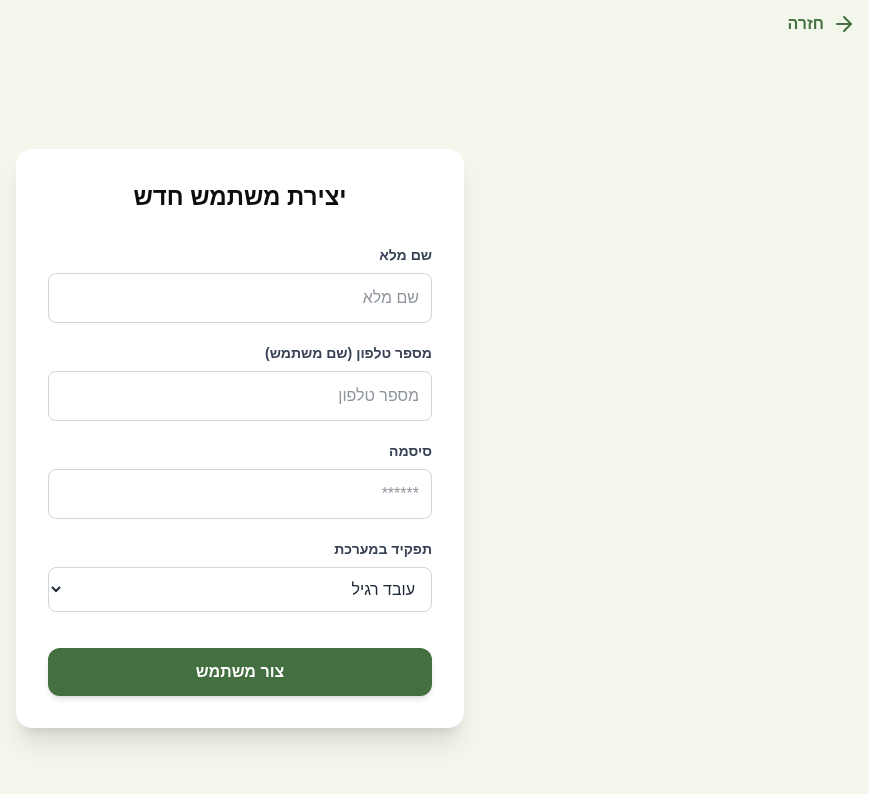
CreateUserPage › displays error message when API fails
Type "Error User" into the field with placeholder "שם מלא". click: (240, 298)
box: [48,272,432,322]
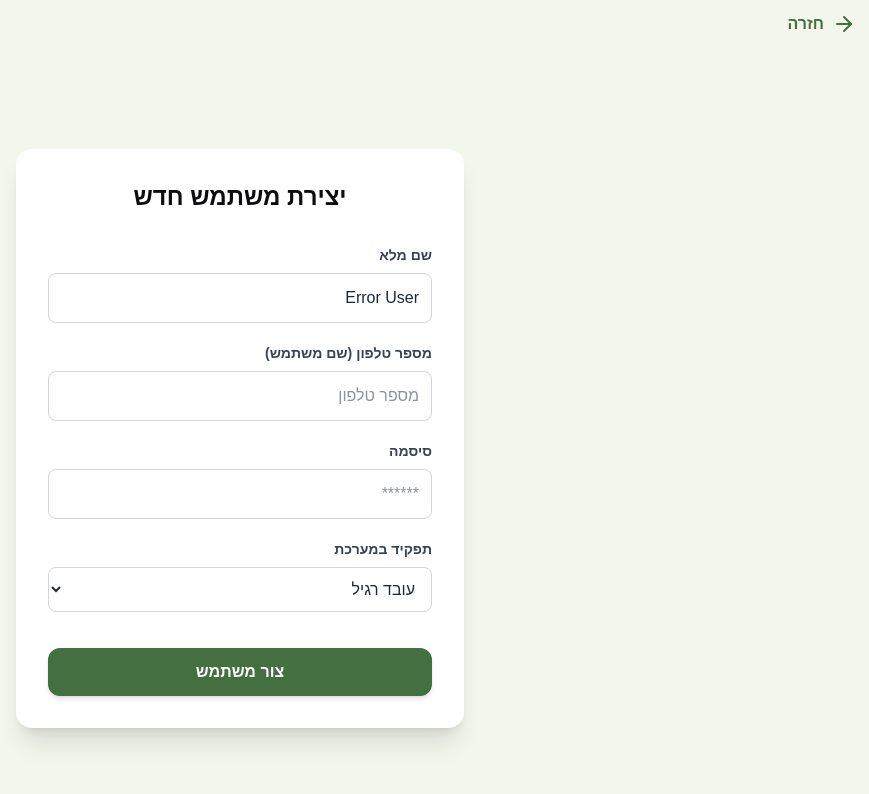
Submit the form, box [48,244,432,696]
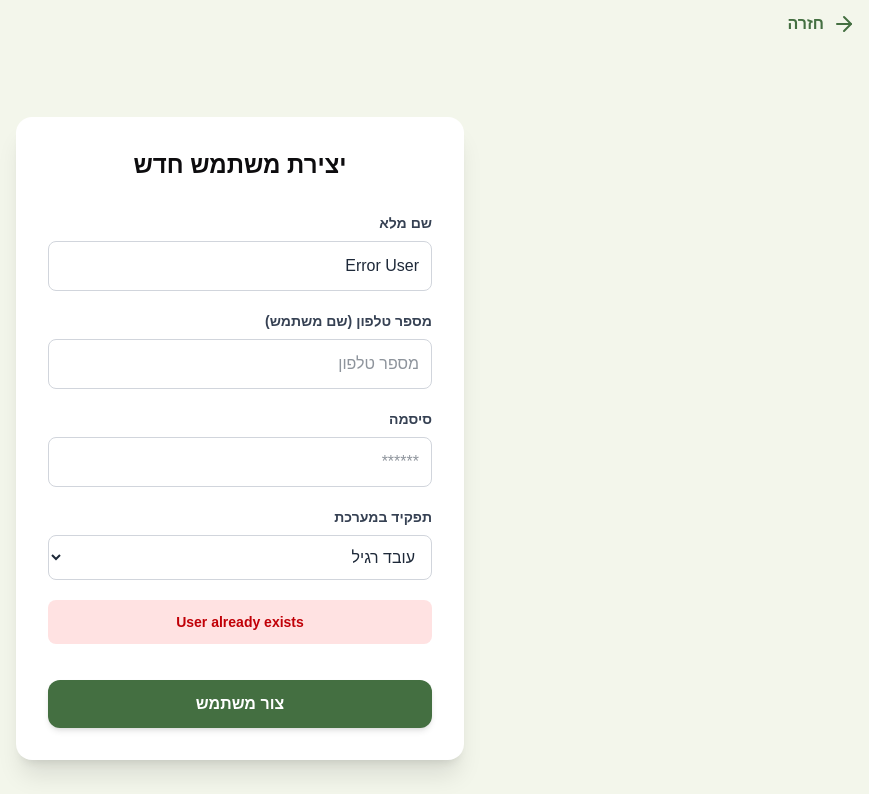
Check: the text "User already exists" is shown, box [48,600,432,644]
